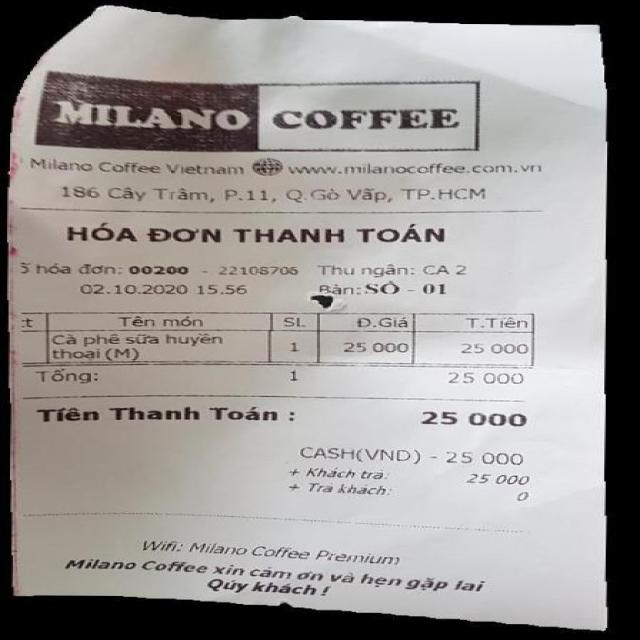Date: (74, 282, 192, 299)
Store_Name: (50, 91, 463, 136)
amount_number: (407, 408, 533, 434)
label_total: (30, 401, 279, 427)
